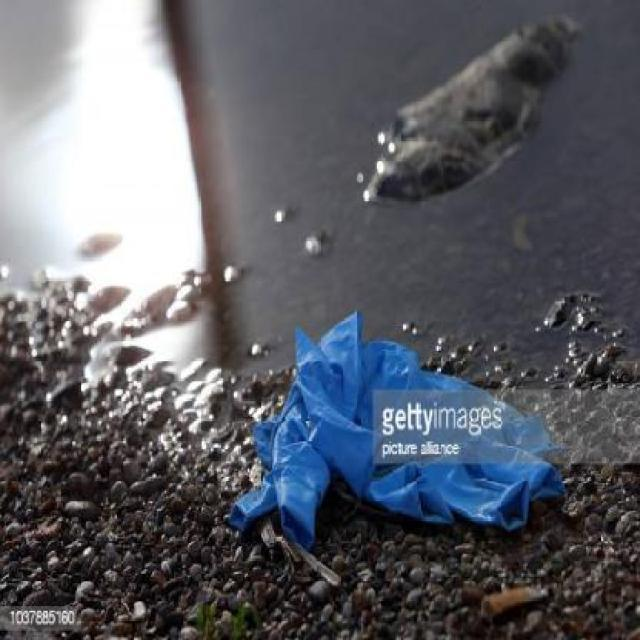glove_hand: (226, 308, 580, 566)
